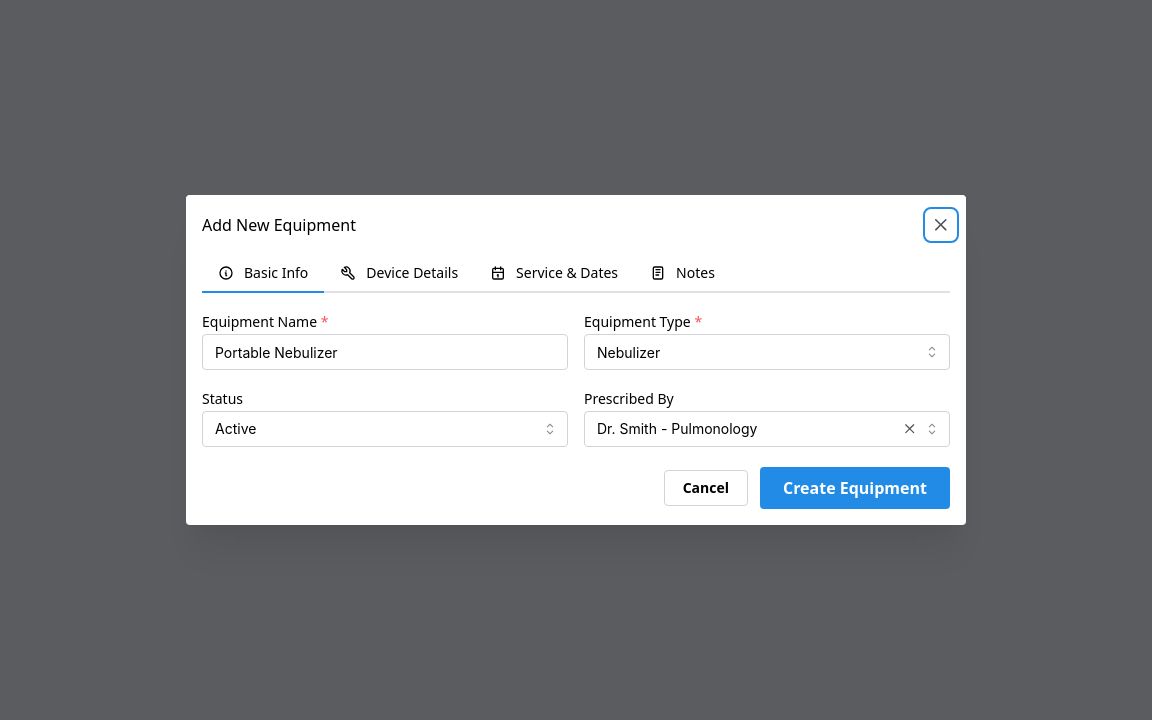
Test: EquipmentFormWrapper › Data Population › populates form with existing equipment data
Expected: the field showing "Portable Nebulizer" is shown, [202,334,568,370]
# Device Details tab - manufacturer, model, serial, supplier
Click the tab "Device Details": coordinates (399, 274) [324,255,474,293]
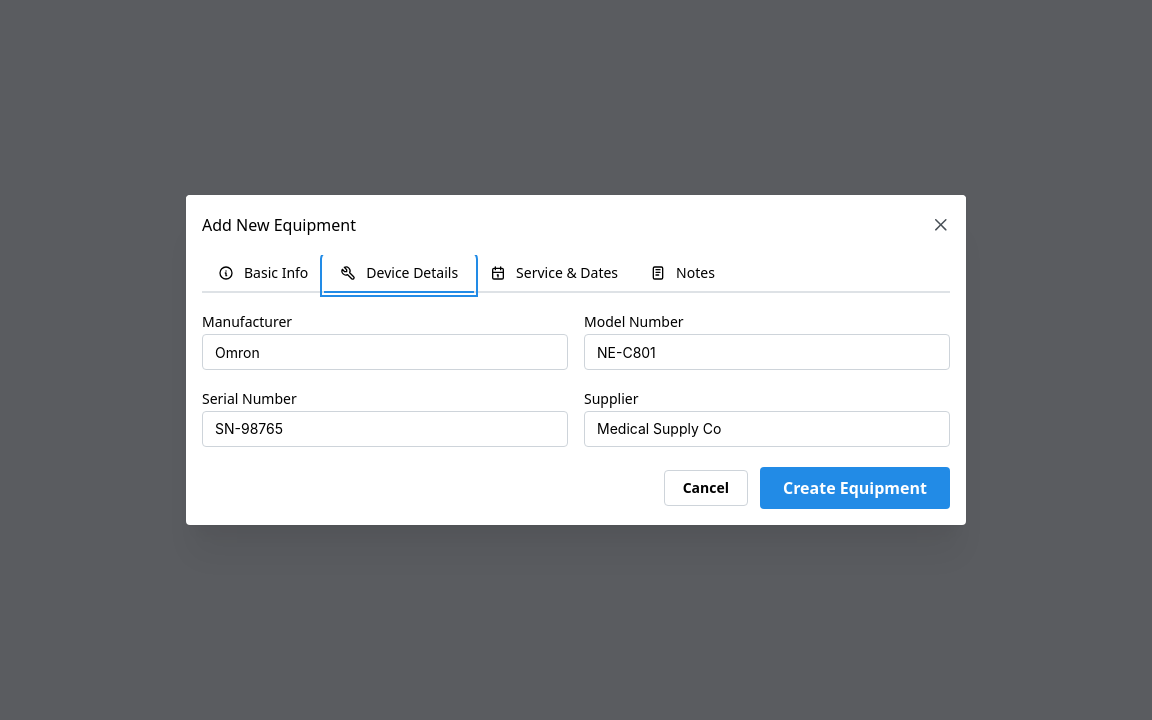
Expected: the field showing "Omron" is shown, [202,334,568,370]
Expected: the field showing "NE-C801" is shown, [584,334,950,370]
Expected: the field showing "SN-98765" is shown, [202,411,568,447]
# Service & Dates tab - usage instructions
Click the tab "Service & Dates": coordinates (554, 274) [474,255,634,293]
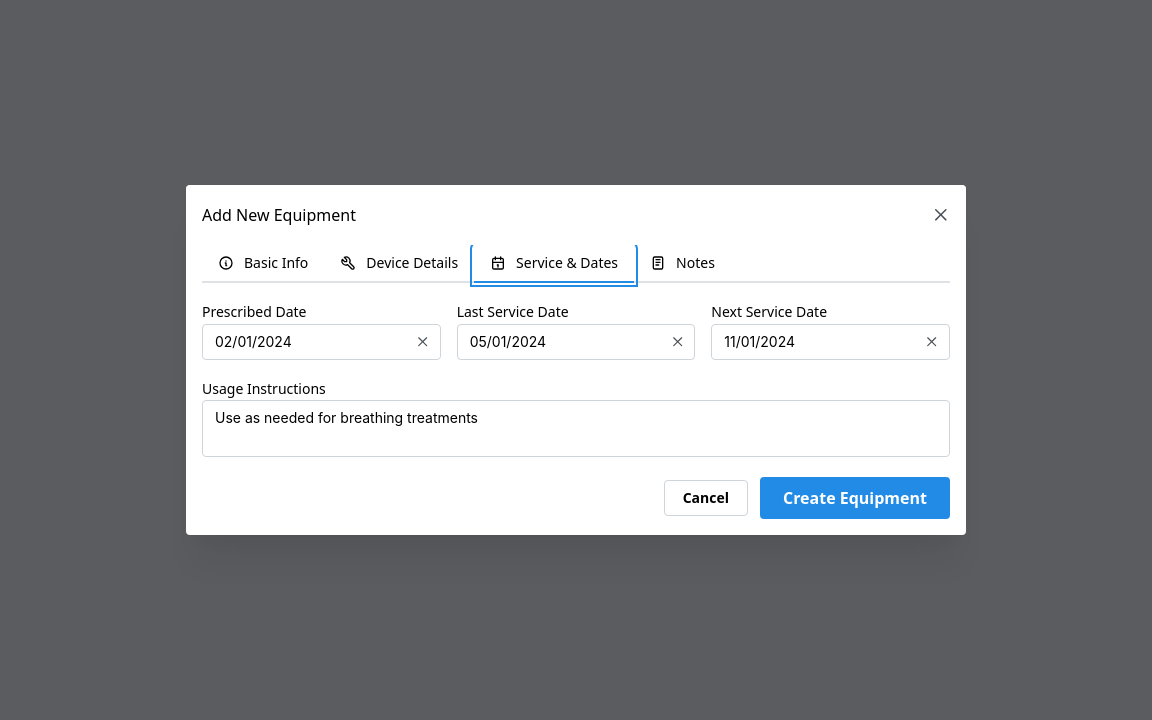
Expected: the text box showing "Use as needed for breathing treatments" is shown, [202,400,950,457]
# Notes tab - notes
Click the tab "Notes": coordinates (682, 264) [634,245,731,283]
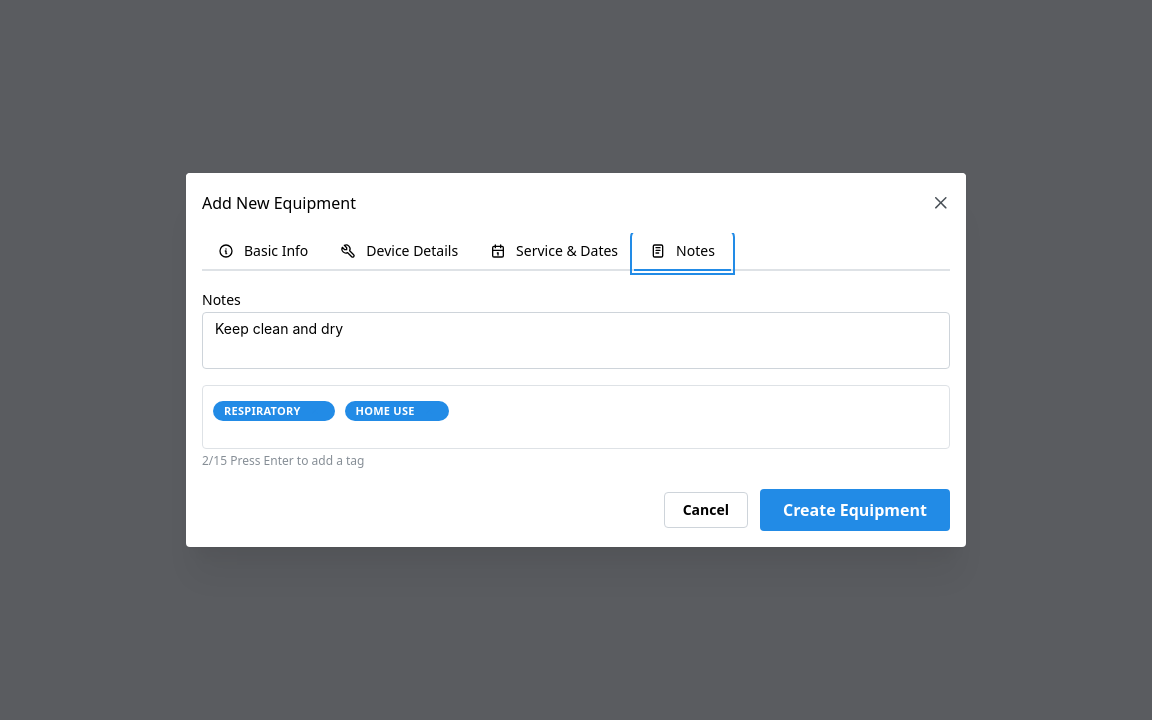
Expected: the text box showing "Keep clean and dry" is shown, [202,312,950,368]
